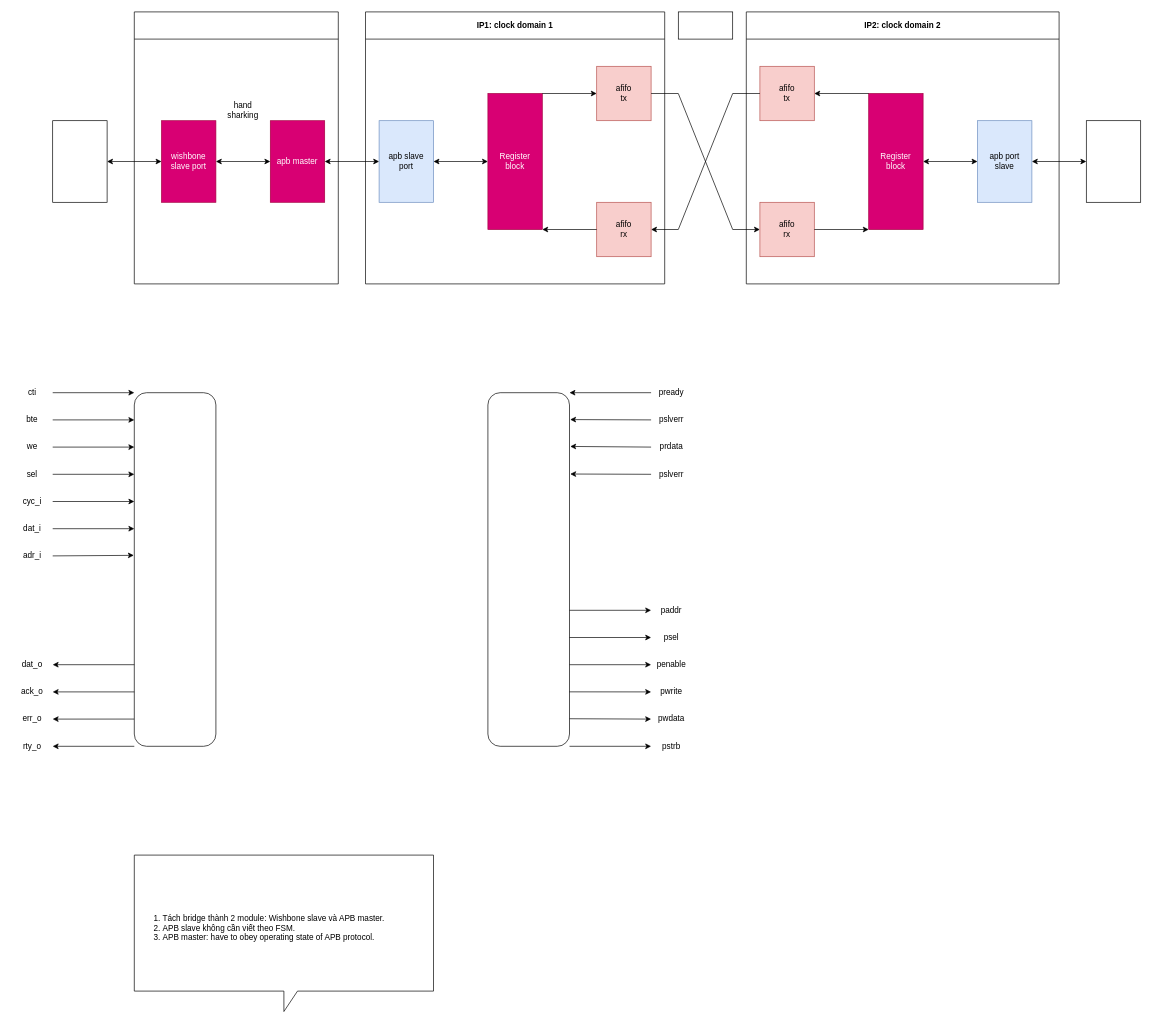
Some shapes in this 1153 by 1023 pixel diagram are drawn without their labels. Here are the shapes that lost their labels. From the top down, the centre of each, then its label:
the point at 705,25: clock domain 3
the point at 79,161: upstream device
the point at 236,147: Wishbone to APB bridge
the point at 1113,161: other device
the point at 175,569: Wishbone slave interface
the point at 528,569: apb master interface
